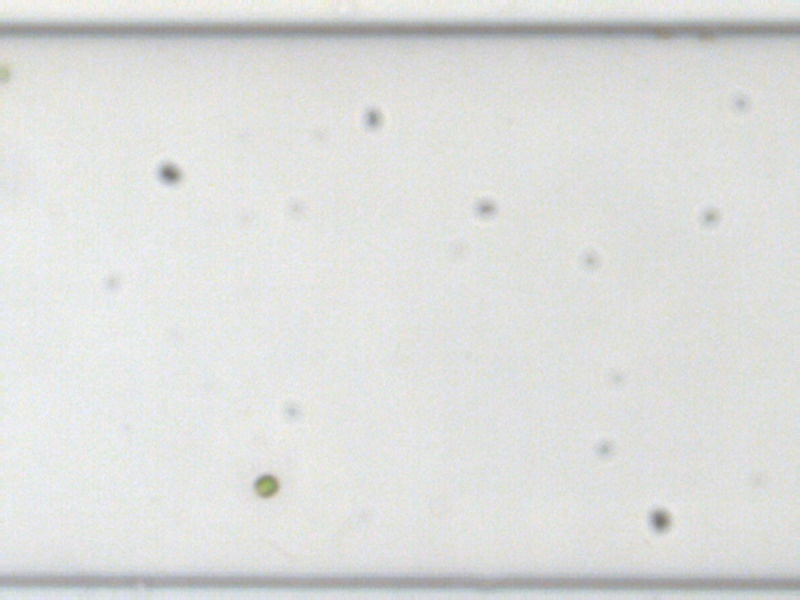Chlorella: (253, 475, 278, 498)
